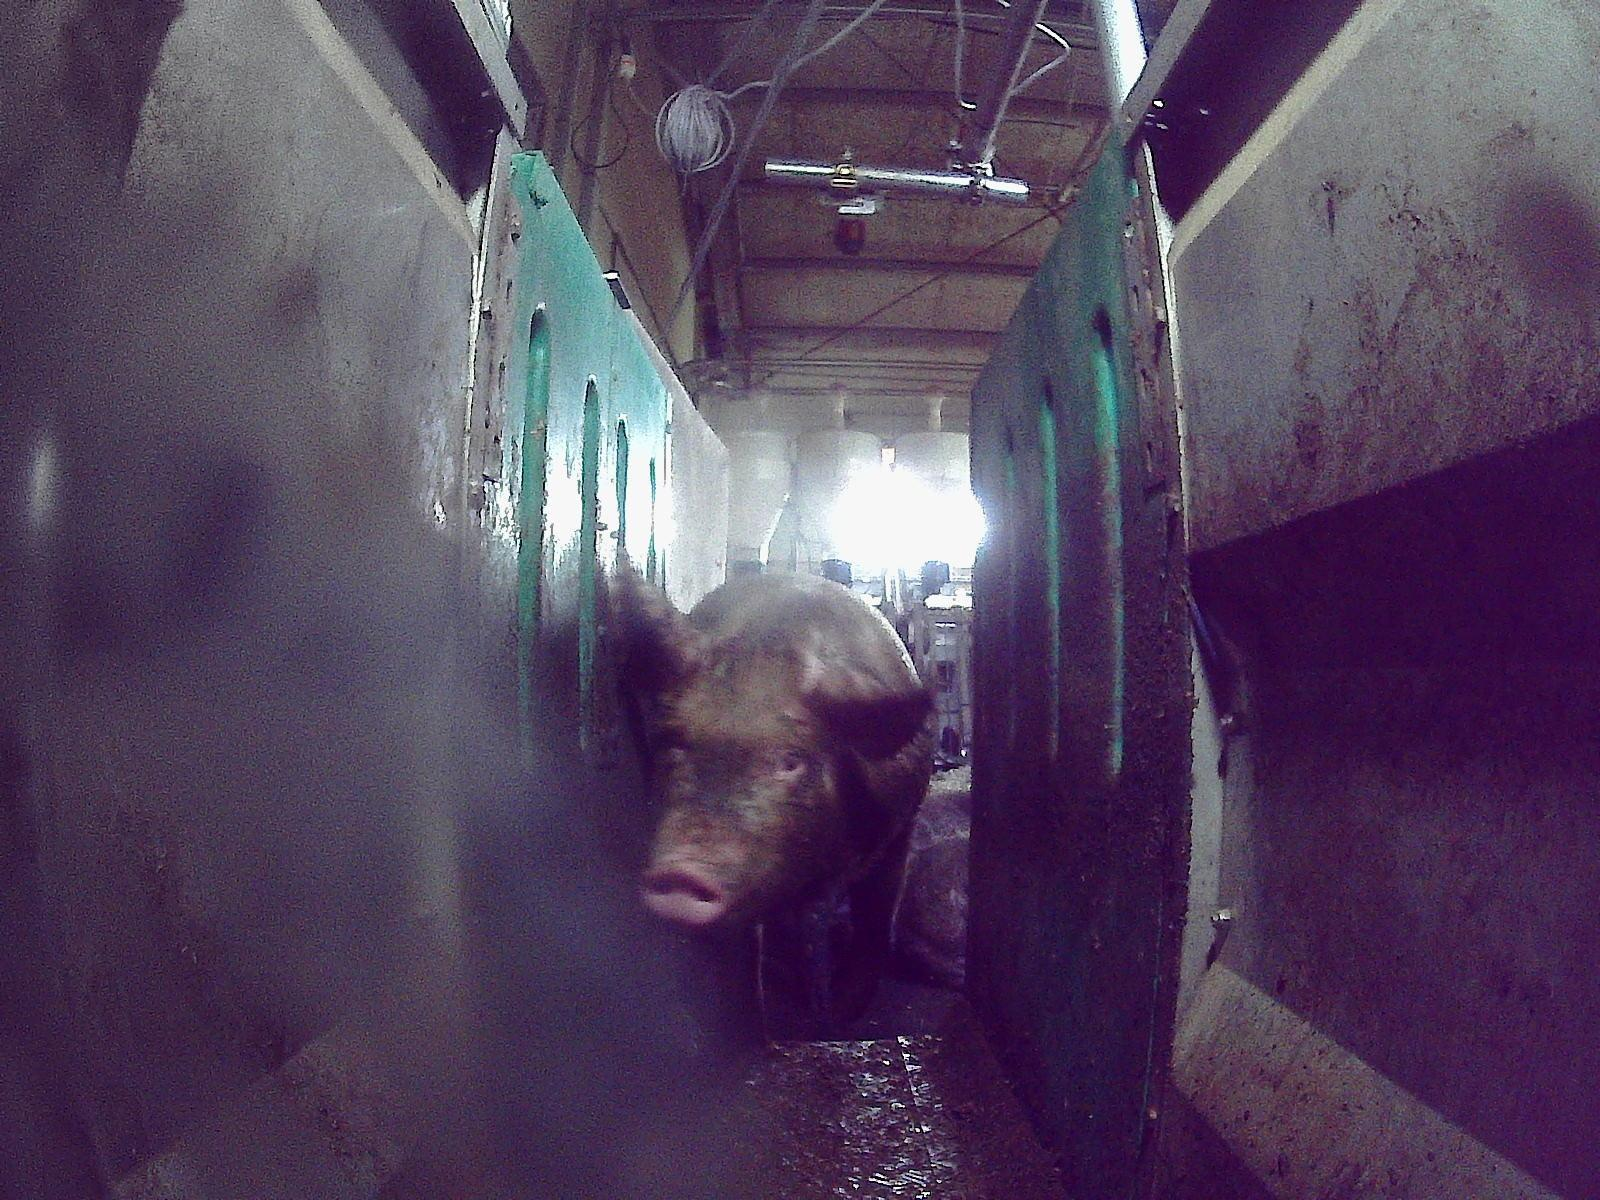Face: (642, 645, 868, 933)
